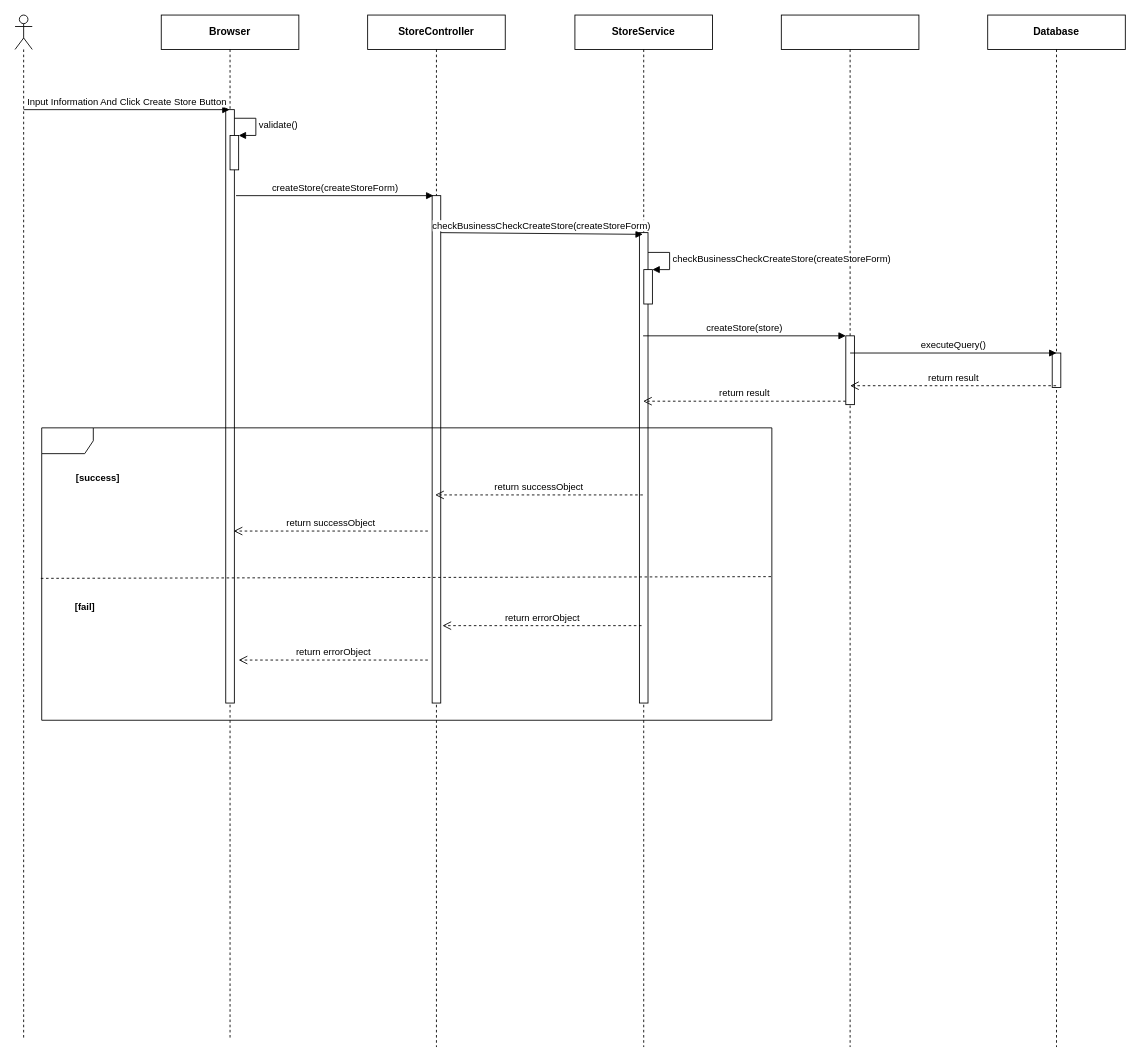
The diagram is 1140 pixels wide and 1062 high, and some of its shapes have lost their labels. Each missing label, with the box of its shape:
alt: (41, 427, 772, 720)
StoreDao: (780, 14, 919, 1047)
